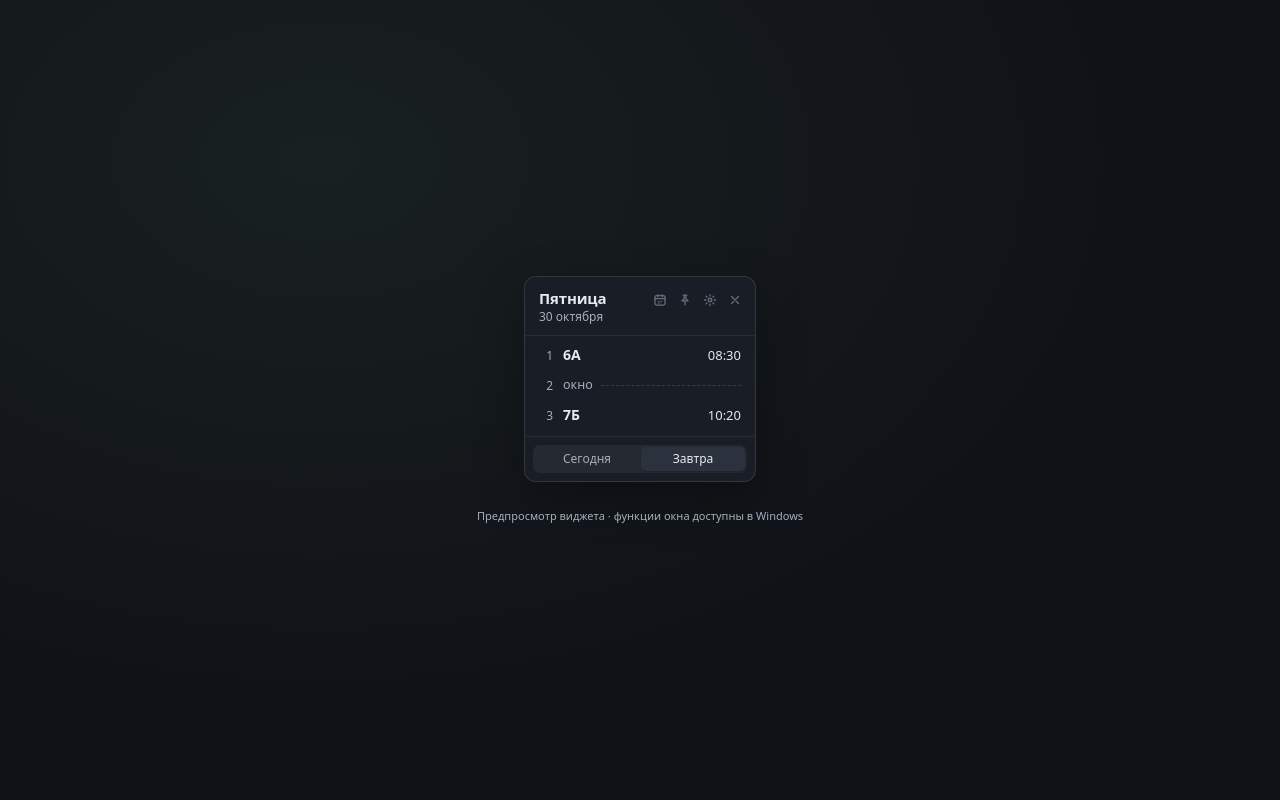
Test: автозапуск применяется, только когда меняют его самого; ошибка не даёт сохранить
Click the button named "Открыть настройки".
click(710, 300)  # box [698,288,722,312]
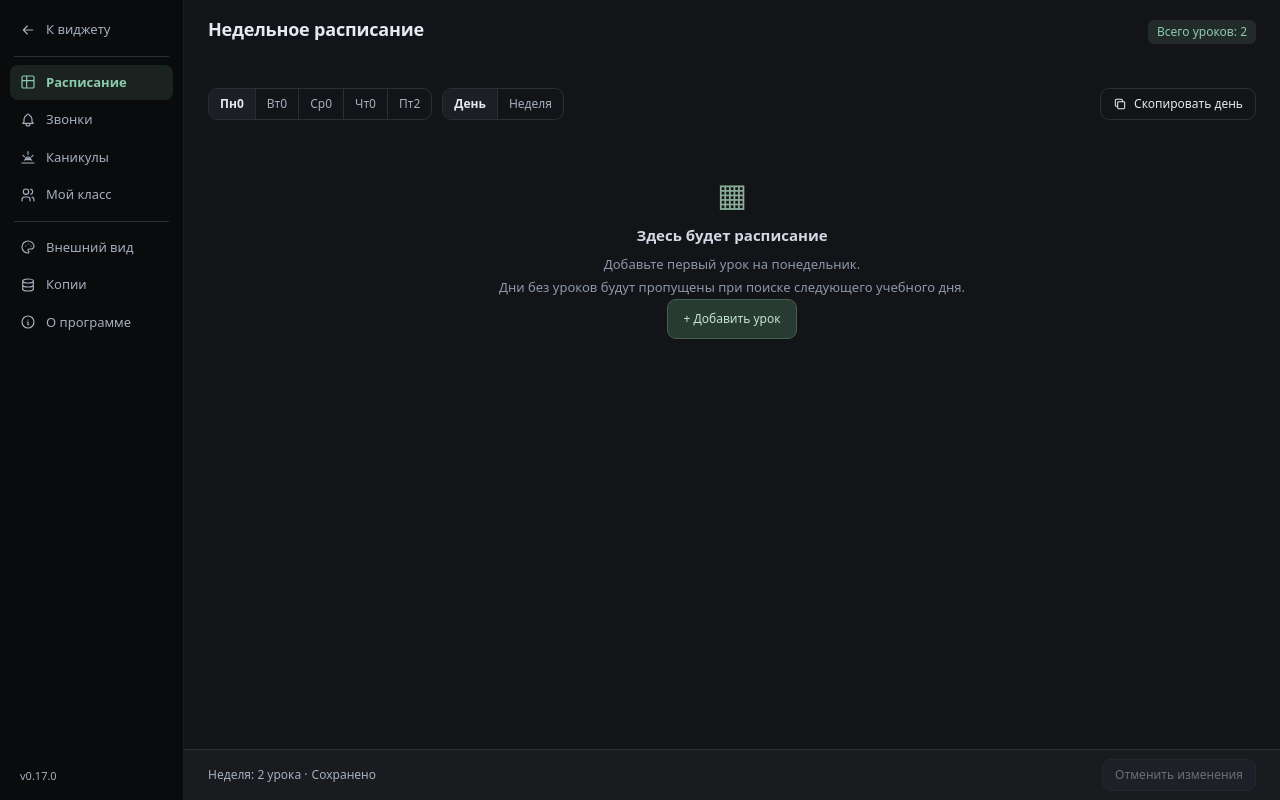
Click the button "Внешний вид".
click(92, 247)  # box [10,230,173,265]
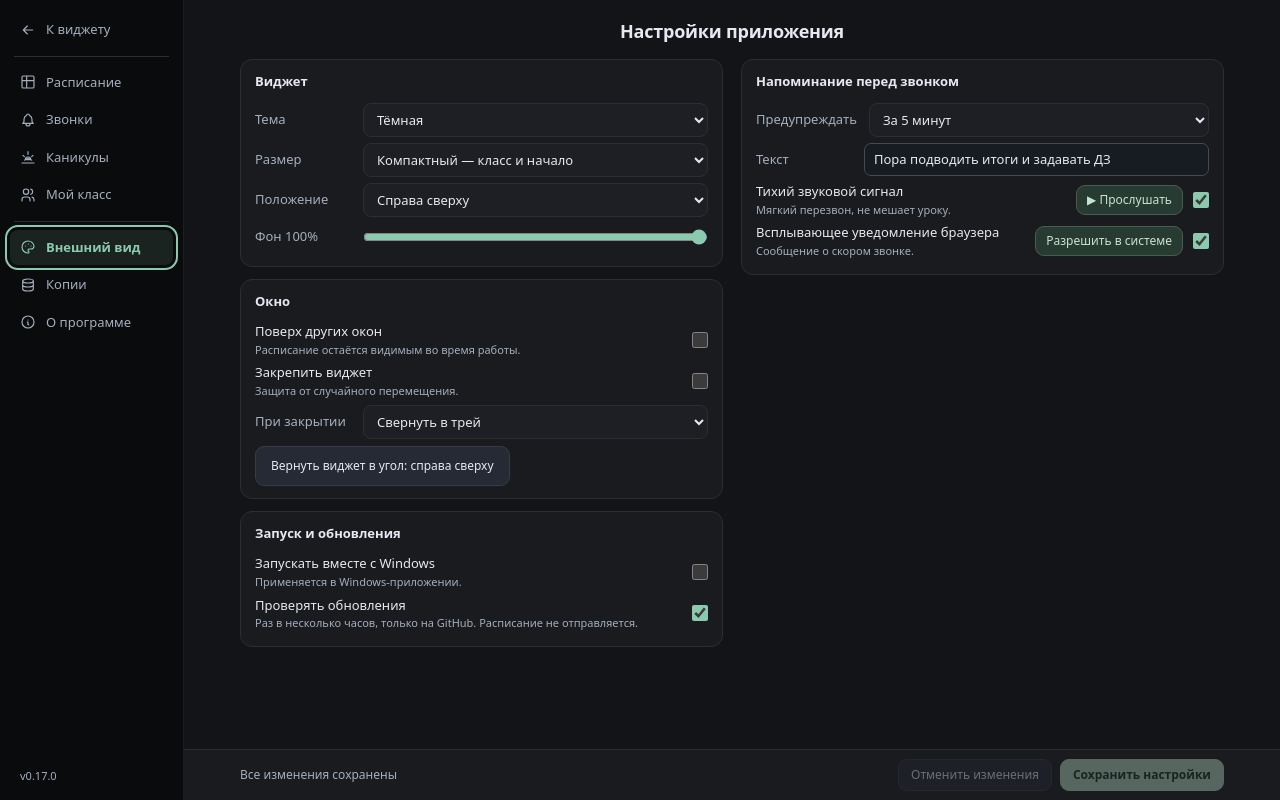
Click the checkbox labelled "Поверх других окон".
click(700, 340)  # box [692,332,708,348]
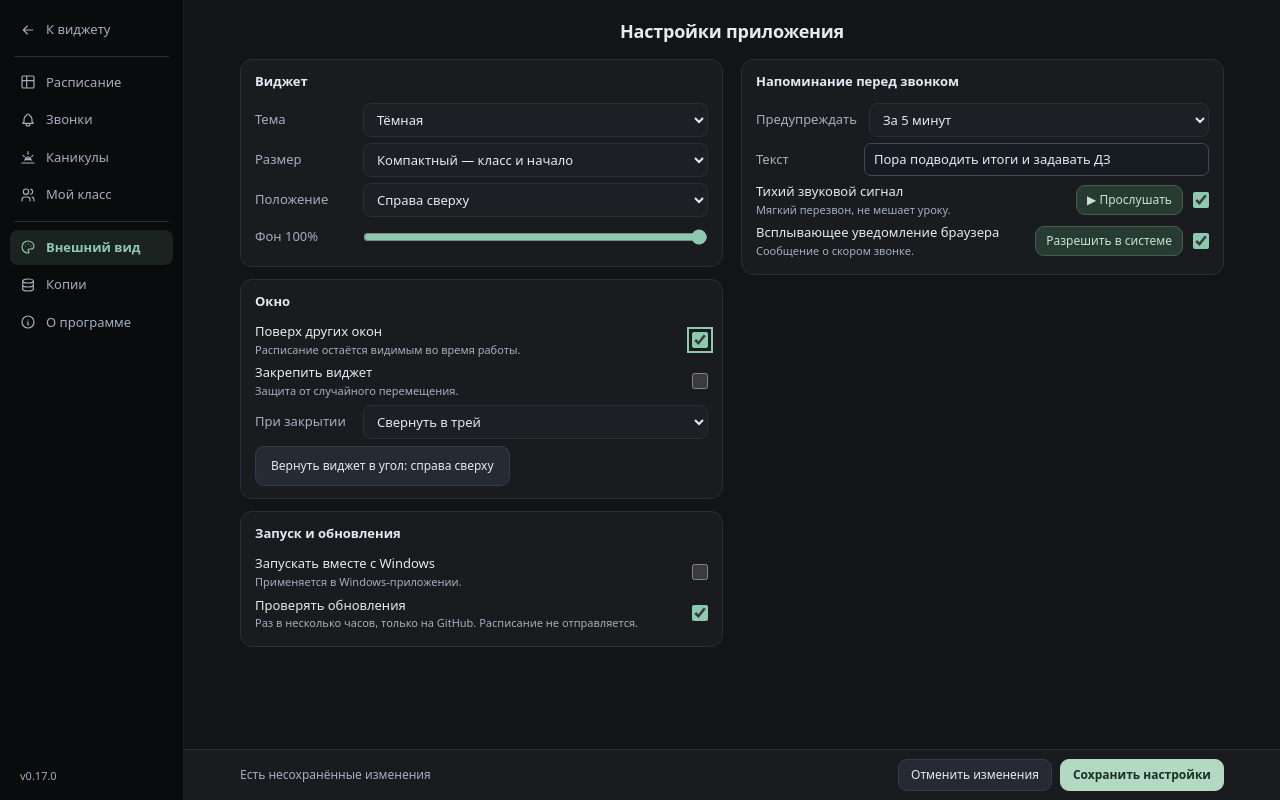
Click the button "Сохранить настройки".
click(1142, 775)  # box [1060,759,1224,791]
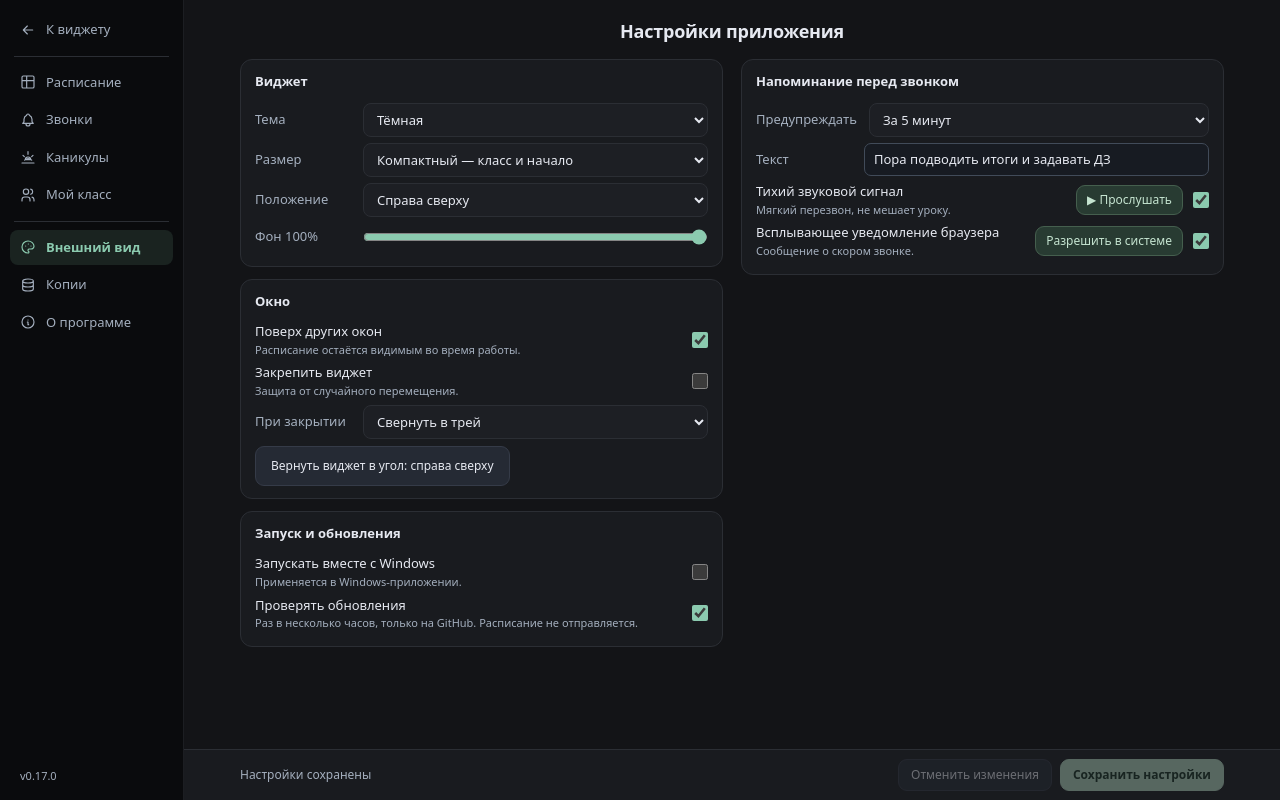
expect the text "Настройки сохранены" is shown: met, box [240,766,371,783]
Click the checkbox labelled "Запускать вместе с Windows Применяется в Windows-приложении.".
click(700, 572)  # box [692,564,708,580]
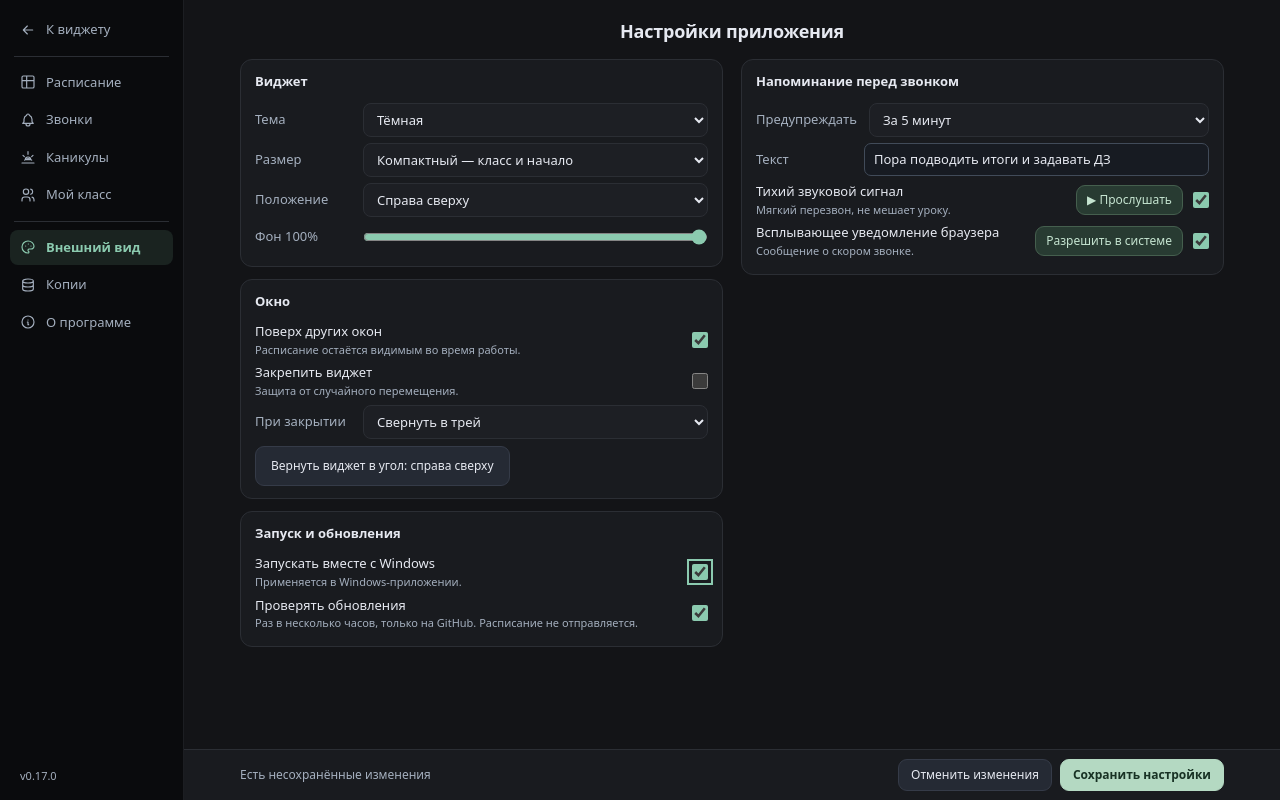
Click the button "Сохранить настройки".
click(1142, 775)  # box [1060,759,1224,791]
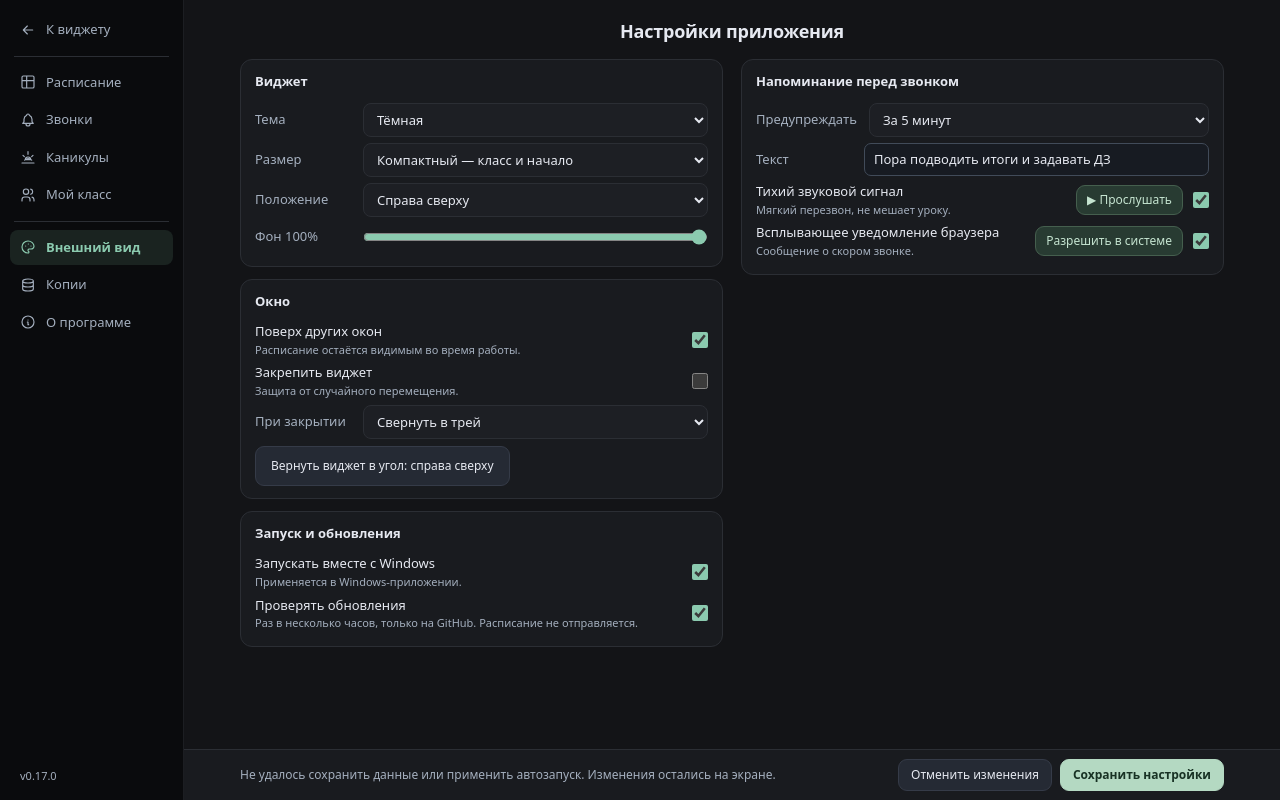
expect the text "Не удалось сохранить данные или применить автозапуск" is shown: met, box [240,766,776,783]
